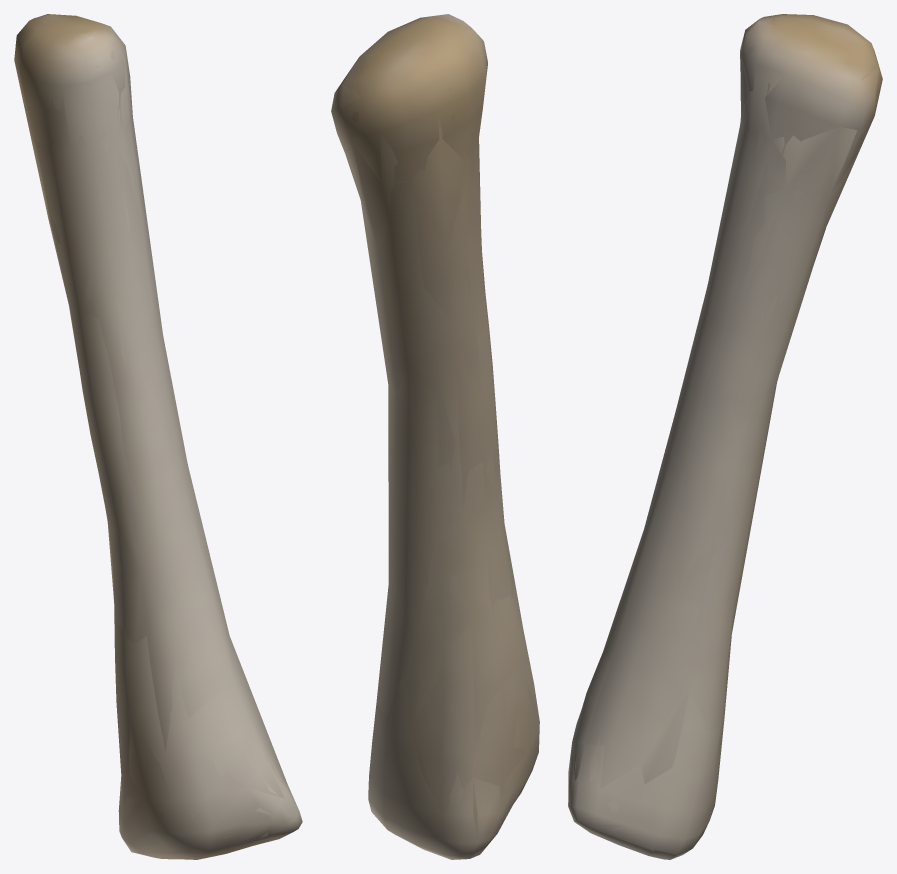
File: R metatarsi tertium.fbx
3 renders of one model, left to right at view 1: azimuth 30°, elevation 25°; view 2: azimuth 150°, elevation 25°; view 3: azimuth 270°, elevation 25°, orthographic. The views are drawn at different scales.
Visible parts, largest first — view 1: R metatarsi tertium low, R metatarsi tertium, R metatarsi tertium high; view 2: R metatarsi tertium low, R metatarsi tertium, R metatarsi tertium high; view 3: R metatarsi tertium low, R metatarsi tertium, R metatarsi tertium high.
Part boxes in pixels (left/top/right/bottom): R metatarsi tertium low: left=14, top=15, right=301, bottom=858; R metatarsi tertium: left=14, top=14, right=302, bottom=859; R metatarsi tertium high: left=18, top=17, right=285, bottom=856; R metatarsi tertium low: left=333, top=15, right=539, bottom=859; R metatarsi tertium: left=331, top=14, right=539, bottom=859; R metatarsi tertium high: left=347, top=28, right=533, bottom=849; R metatarsi tertium low: left=571, top=17, right=878, bottom=859; R metatarsi tertium: left=568, top=14, right=882, bottom=859; R metatarsi tertium high: left=569, top=21, right=878, bottom=848.
Bounding box in the file's own units: 1.32 × 5.99 × 2.15.
